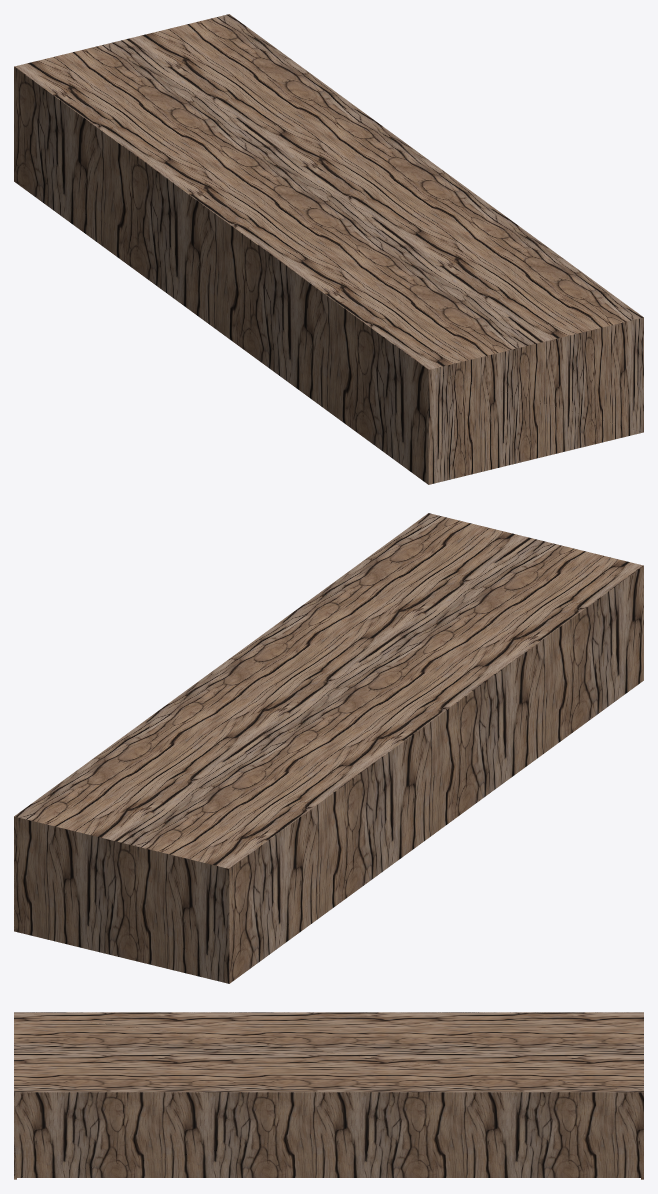
File: bridgeDefault.fbx
The picture shows the model from 3 angles, top to bottom: view 1: azimuth 30°, elevation 25°; view 2: azimuth 150°, elevation 25°; view 3: azimuth 270°, elevation 25°; orthographic projection. The views are drawn at different scales.
Visible parts, largest first — view 1: Plane; view 2: Plane; view 3: Plane.
Part boxes in pixels (x1,y1,x2,y2): Plane: [14, 14, 643, 484]; Plane: [14, 513, 643, 983]; Plane: [14, 1012, 643, 1179].
Size of the model in its own units: 600 by 306 by 2000.
